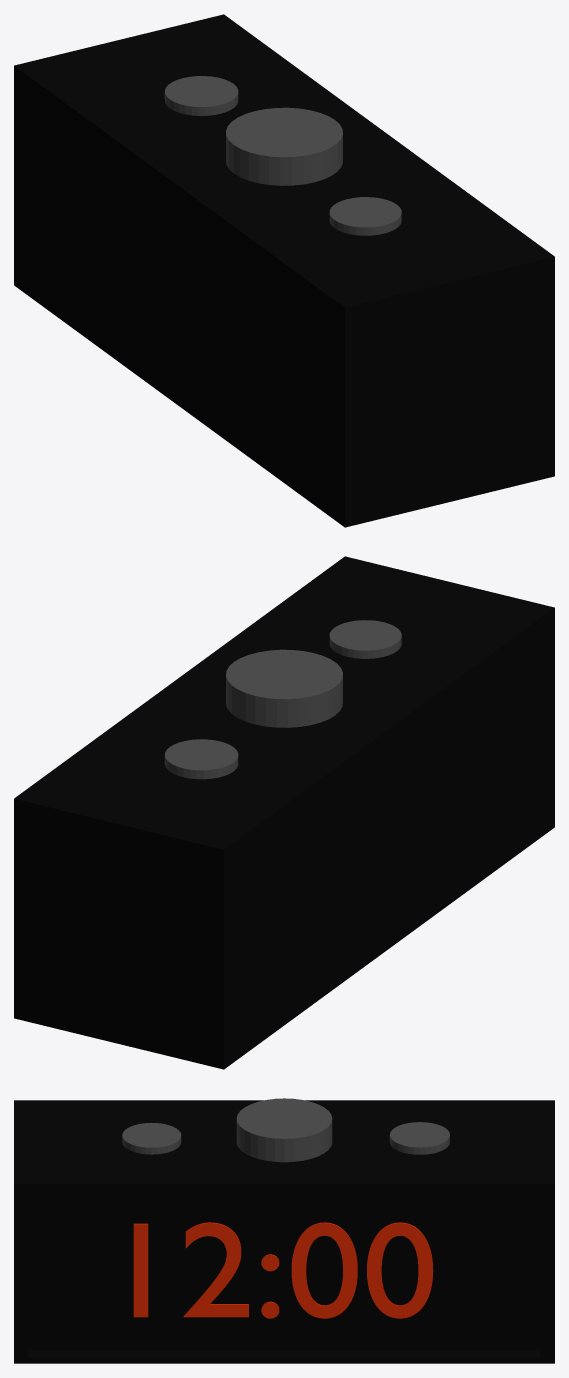
The model's file is digitalClockfbx.fbx.
3 renders of one model, top to bottom at view 1: azimuth 30°, elevation 25°; view 2: azimuth 150°, elevation 25°; view 3: azimuth 270°, elevation 25°, orthographic. The views are drawn at different scales.
Parts seen in each view (by area): view 1: Cube, Cylinder, Cylinder.002, Cylinder.001; view 2: Cube, Cylinder, Cylinder.002, Cylinder.001; view 3: Cube, Text, Cylinder, Cylinder.002, Cylinder.001.
Part boxes in pixels (box(x1,y1,x2,y2)): Cube: box(14, 14, 554, 527); Cylinder: box(226, 107, 342, 185); Cylinder.002: box(164, 76, 238, 115); Cylinder.001: box(329, 197, 401, 235); Cube: box(14, 556, 554, 1069); Cylinder: box(226, 649, 342, 727); Cylinder.002: box(164, 739, 238, 779); Cylinder.001: box(329, 620, 401, 658); Cube: box(14, 1100, 554, 1363); Text: box(133, 1222, 433, 1318); Cylinder: box(236, 1098, 332, 1162); Cylinder.002: box(389, 1122, 449, 1154); Cylinder.001: box(122, 1123, 181, 1154).
Bounding box in the file's own units: 200 × 226 × 546.
